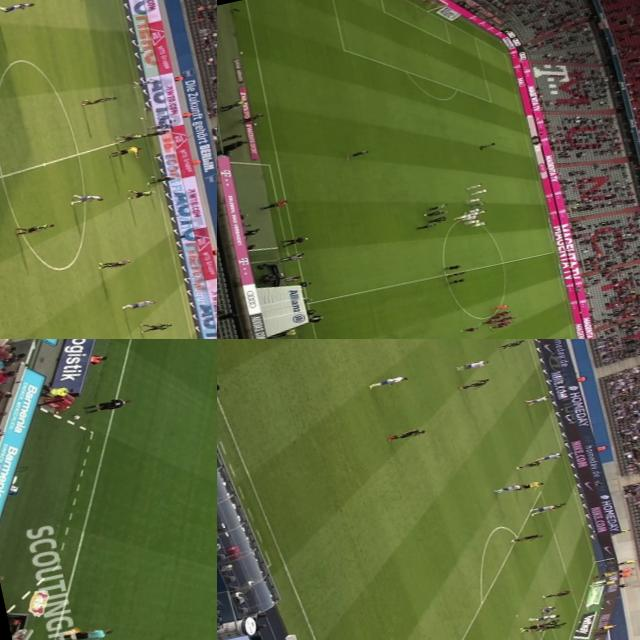ball: (138, 115, 144, 118), (444, 272, 449, 275)
player: (365, 369, 412, 388), (388, 423, 432, 443), (13, 218, 56, 237), (118, 295, 158, 312), (70, 188, 106, 206), (452, 356, 492, 372), (83, 91, 118, 107), (488, 482, 526, 496), (509, 529, 547, 543), (0, 0, 37, 14), (100, 254, 131, 270), (535, 498, 566, 514), (534, 448, 564, 464), (460, 376, 493, 390), (139, 319, 174, 332), (145, 172, 177, 186), (494, 339, 529, 351), (528, 501, 558, 515), (540, 588, 574, 600), (125, 186, 156, 199), (130, 75, 159, 88), (528, 611, 562, 622), (117, 130, 146, 142), (514, 458, 542, 470), (540, 620, 567, 632), (144, 126, 170, 138), (524, 393, 551, 404), (520, 622, 544, 632), (538, 618, 561, 627), (150, 121, 169, 131), (540, 605, 554, 616), (464, 196, 482, 204), (454, 212, 472, 220), (466, 200, 486, 207), (465, 182, 482, 190), (470, 187, 488, 194), (461, 213, 479, 220), (489, 322, 507, 329), (469, 220, 486, 227), (472, 208, 488, 215), (491, 304, 507, 310), (461, 325, 477, 331), (480, 318, 496, 324), (498, 318, 514, 324), (466, 217, 481, 223), (487, 314, 502, 320), (467, 206, 481, 212), (495, 309, 511, 314), (500, 314, 515, 319), (466, 210, 480, 215), (493, 312, 508, 316)
